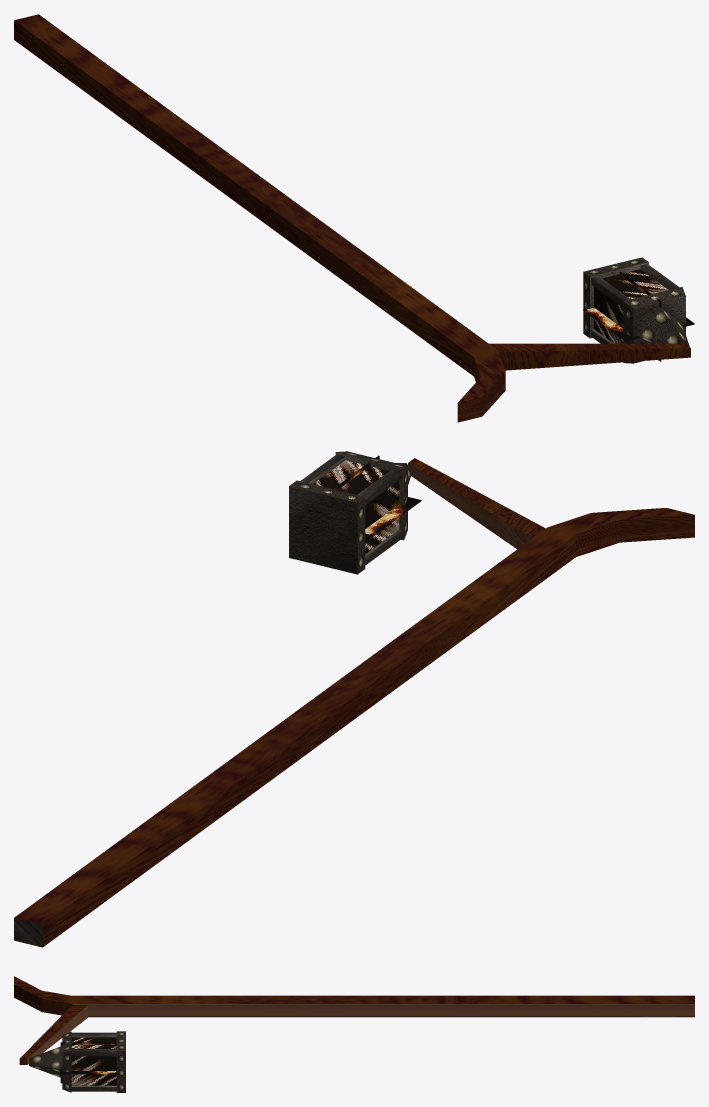
File: lightpole.obj
3 views of the same model, one above another, from view 1: azimuth 30°, elevation 25°; view 2: azimuth 150°, elevation 25°; view 3: azimuth 270°, elevation 25° (orthographic). The views are drawn at different scales.
Size of the model in its own units: 6.34 by 1.38 by 20.34.
8 materials, 8 textured.
